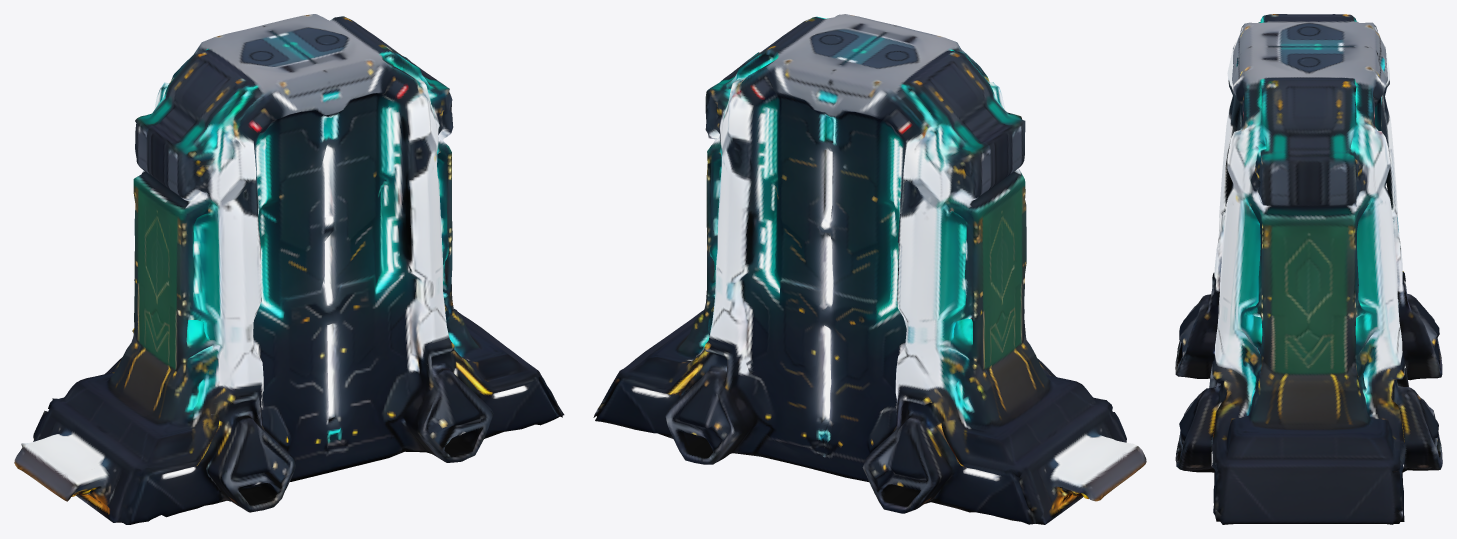
The model's file is base_basic_shaded.fbx.
3 renders of one model, left to right at view 1: azimuth 30°, elevation 25°; view 2: azimuth 150°, elevation 25°; view 3: azimuth 270°, elevation 25°, orthographic. The views are drawn at different scales.
Visible parts, largest first — view 1: model; view 2: model; view 3: model.
Boxes of the visible parts, <box> form: model: <box>14,14,564,524</box>; model: <box>593,14,1146,524</box>; model: <box>1175,14,1442,524</box>.
Bounding box in the file's own units: 182 × 140 × 91.07.
